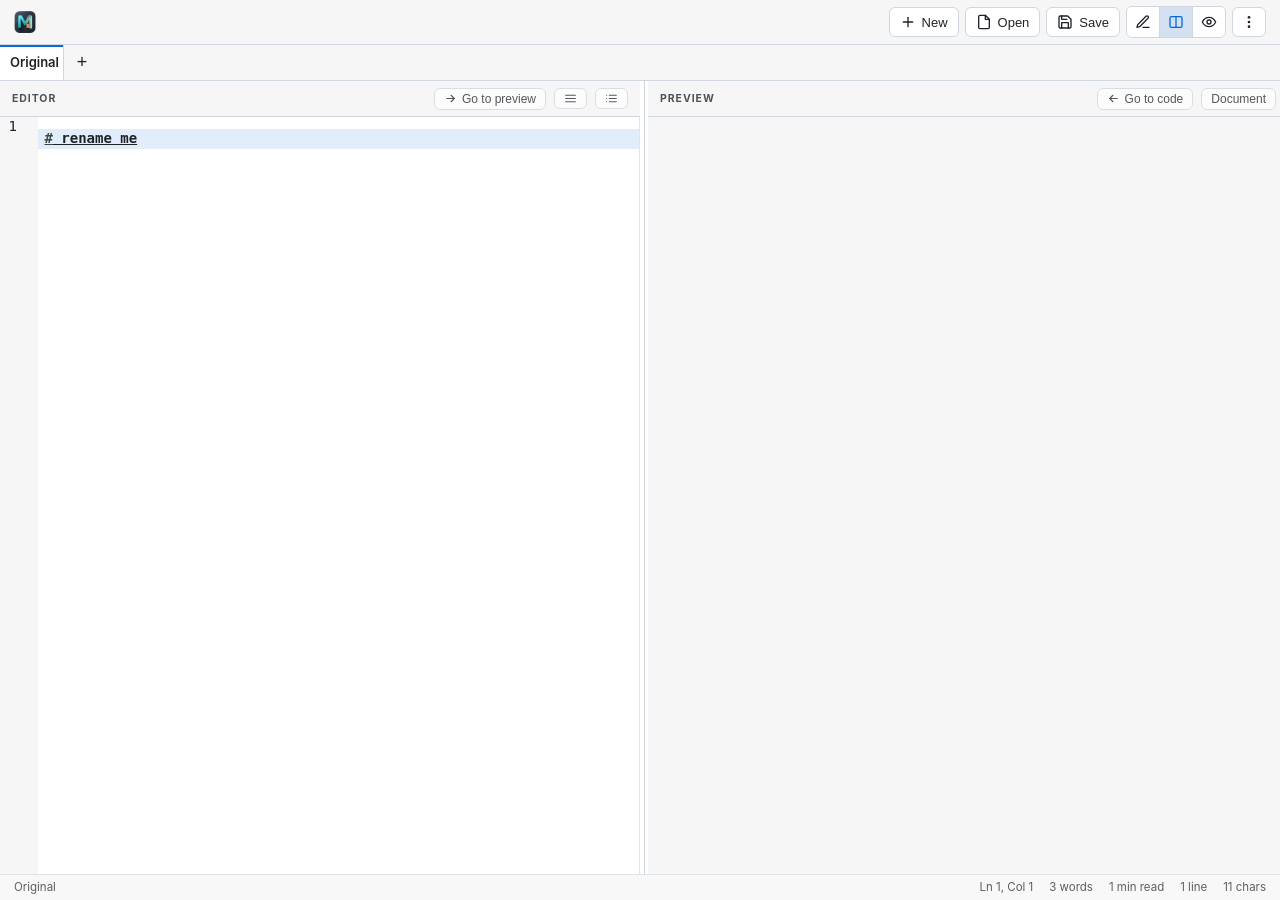
it: in-window rename dialog › renames the tab when confirmed
Expected: the element with class "cm-editor" is shown, [0,117,639,874]
Double-click the tab with class "tab-main" at (32, 62), box [0,45,63,80]
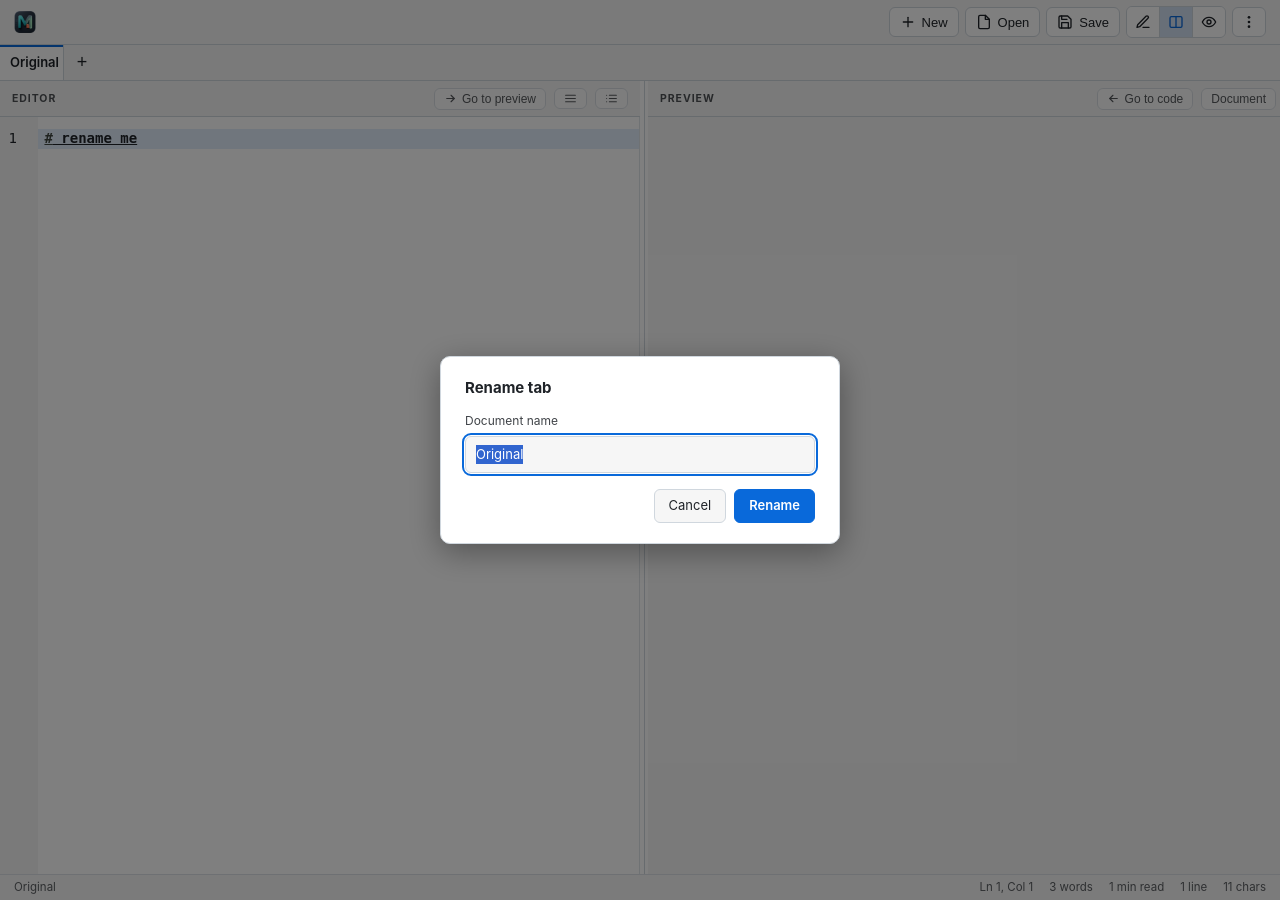
Expected: the field with class "rename-input" is shown
Replace the text in the field with class "rename-input" with "Renamed Tab". click: (640, 455)
box: [465,436,815,473]
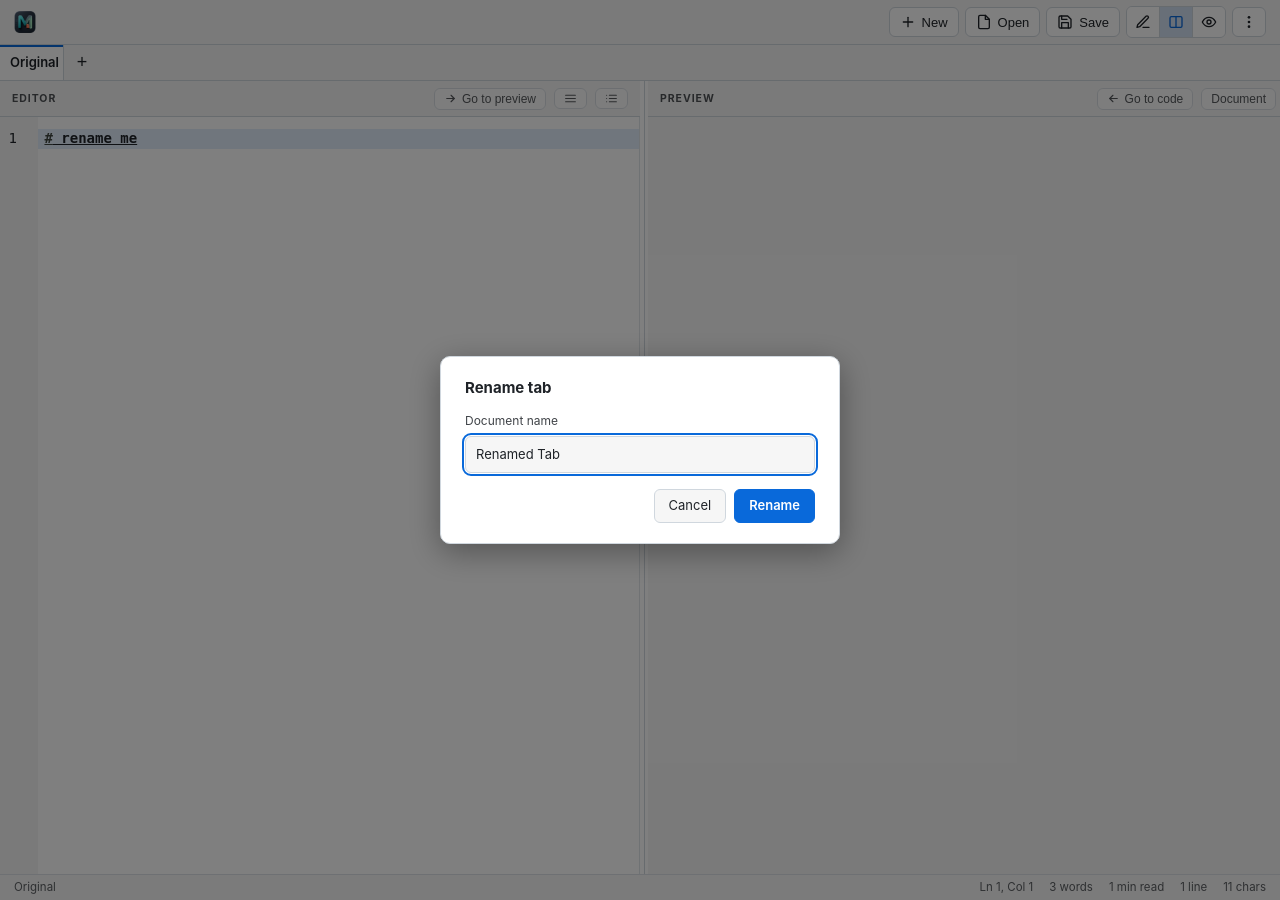
Press Enter in the field with class "rename-input", box [465,436,815,473]
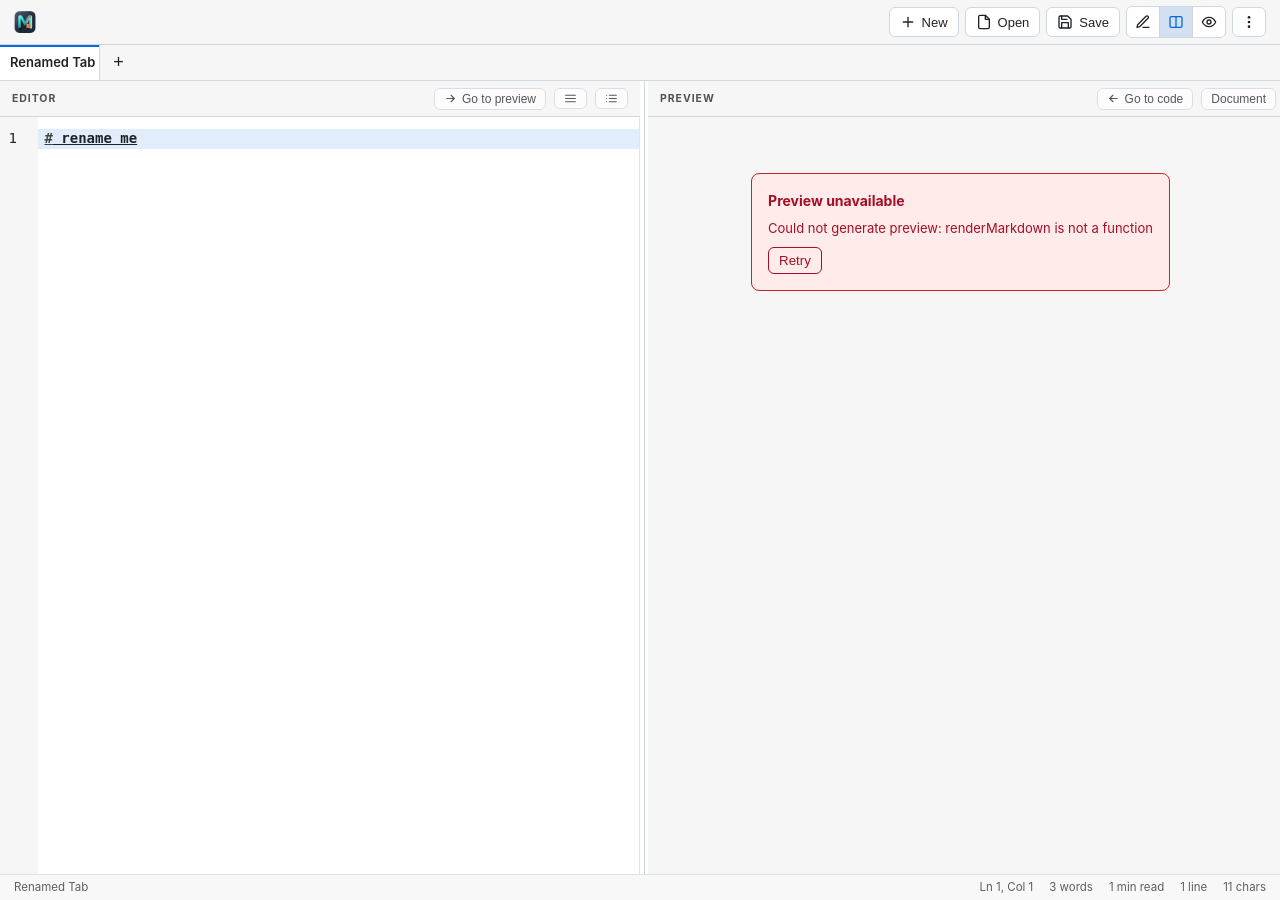
Expected: the dialog is gone
Expected: the text with class "tab-name" reads "Renamed Tab", [10,54,95,70]
